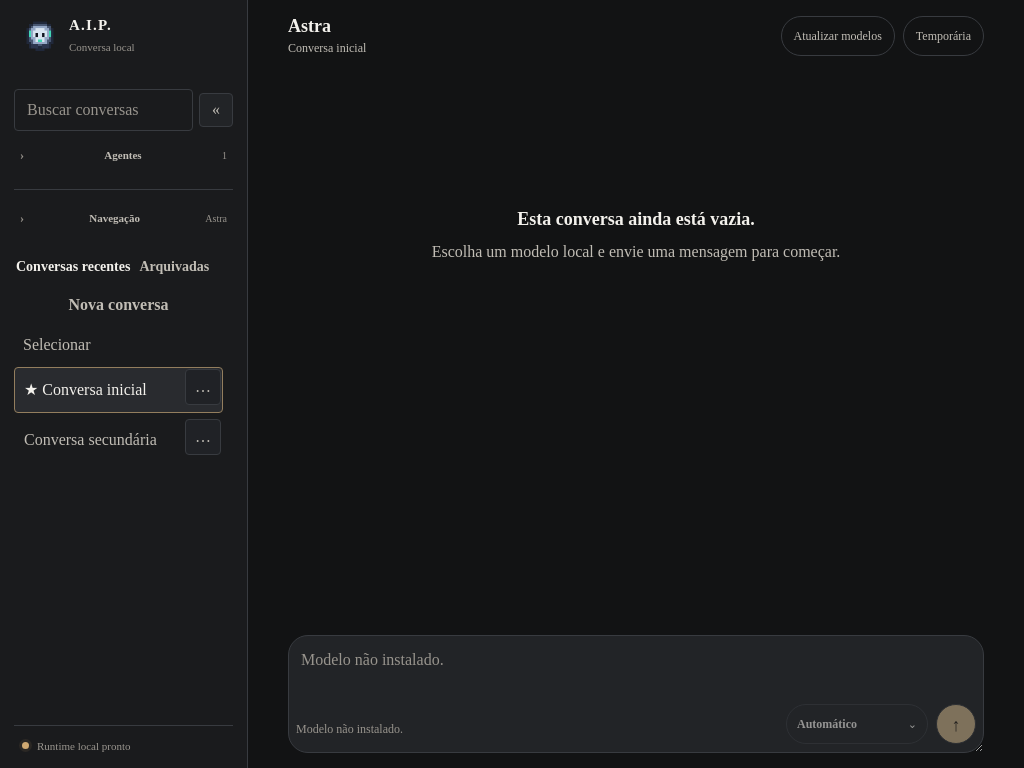
Test: App conversation navigation integration › reloads titles without remounting an in-progress rename
What coordinates should you click on to do the following:
click the 1st button with class "conversation-actions-trigger"
I would click on:
 (203, 387)
Its box is [185,369,221,405].
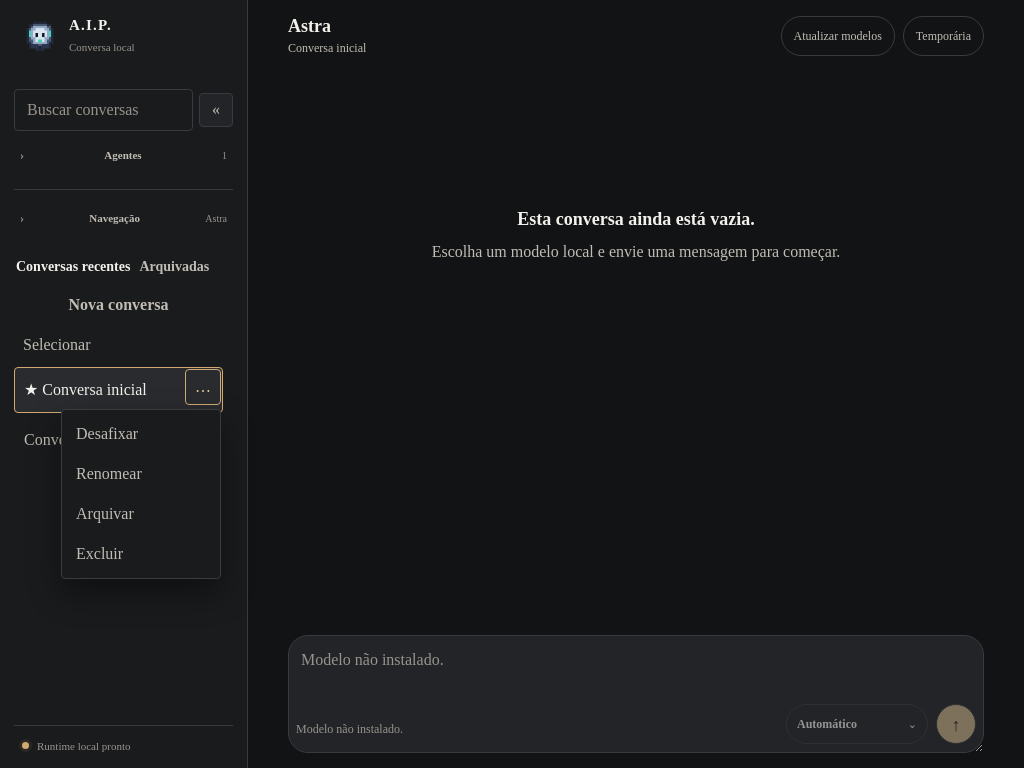
What coordinates should you click on to do the following:
click the menu item "Renomear"
I would click on:
 (141, 474)
Its box is [66,454,216,494].
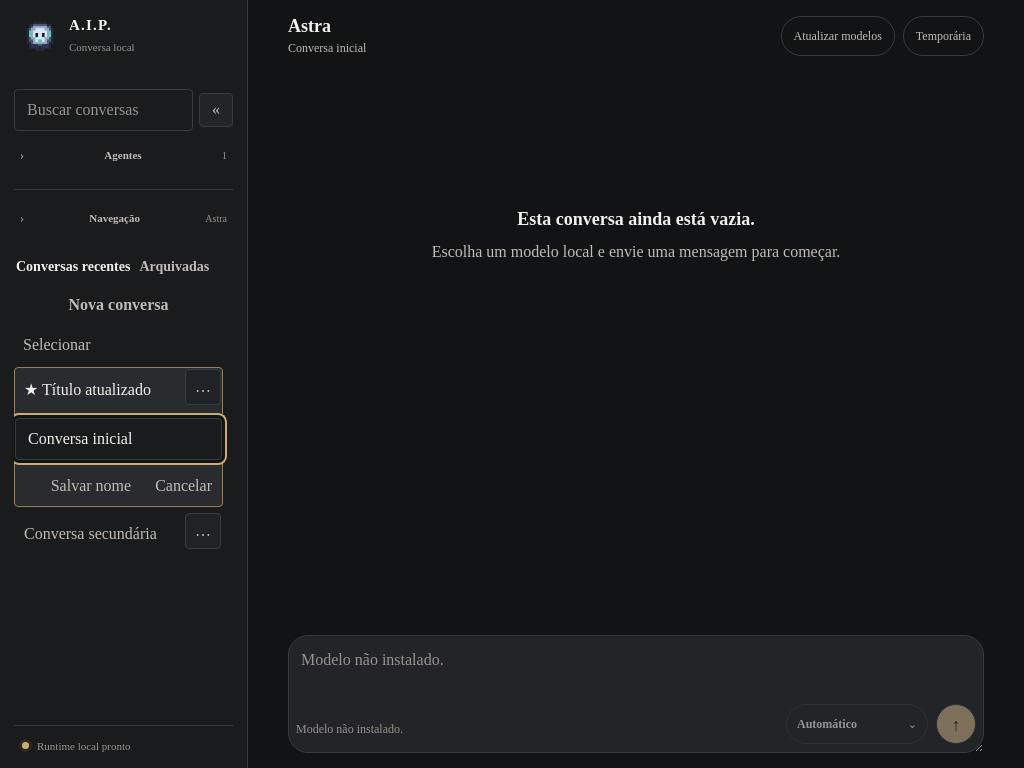
Result: the text "Título atualizado" is shown at [15,368,222,412]
